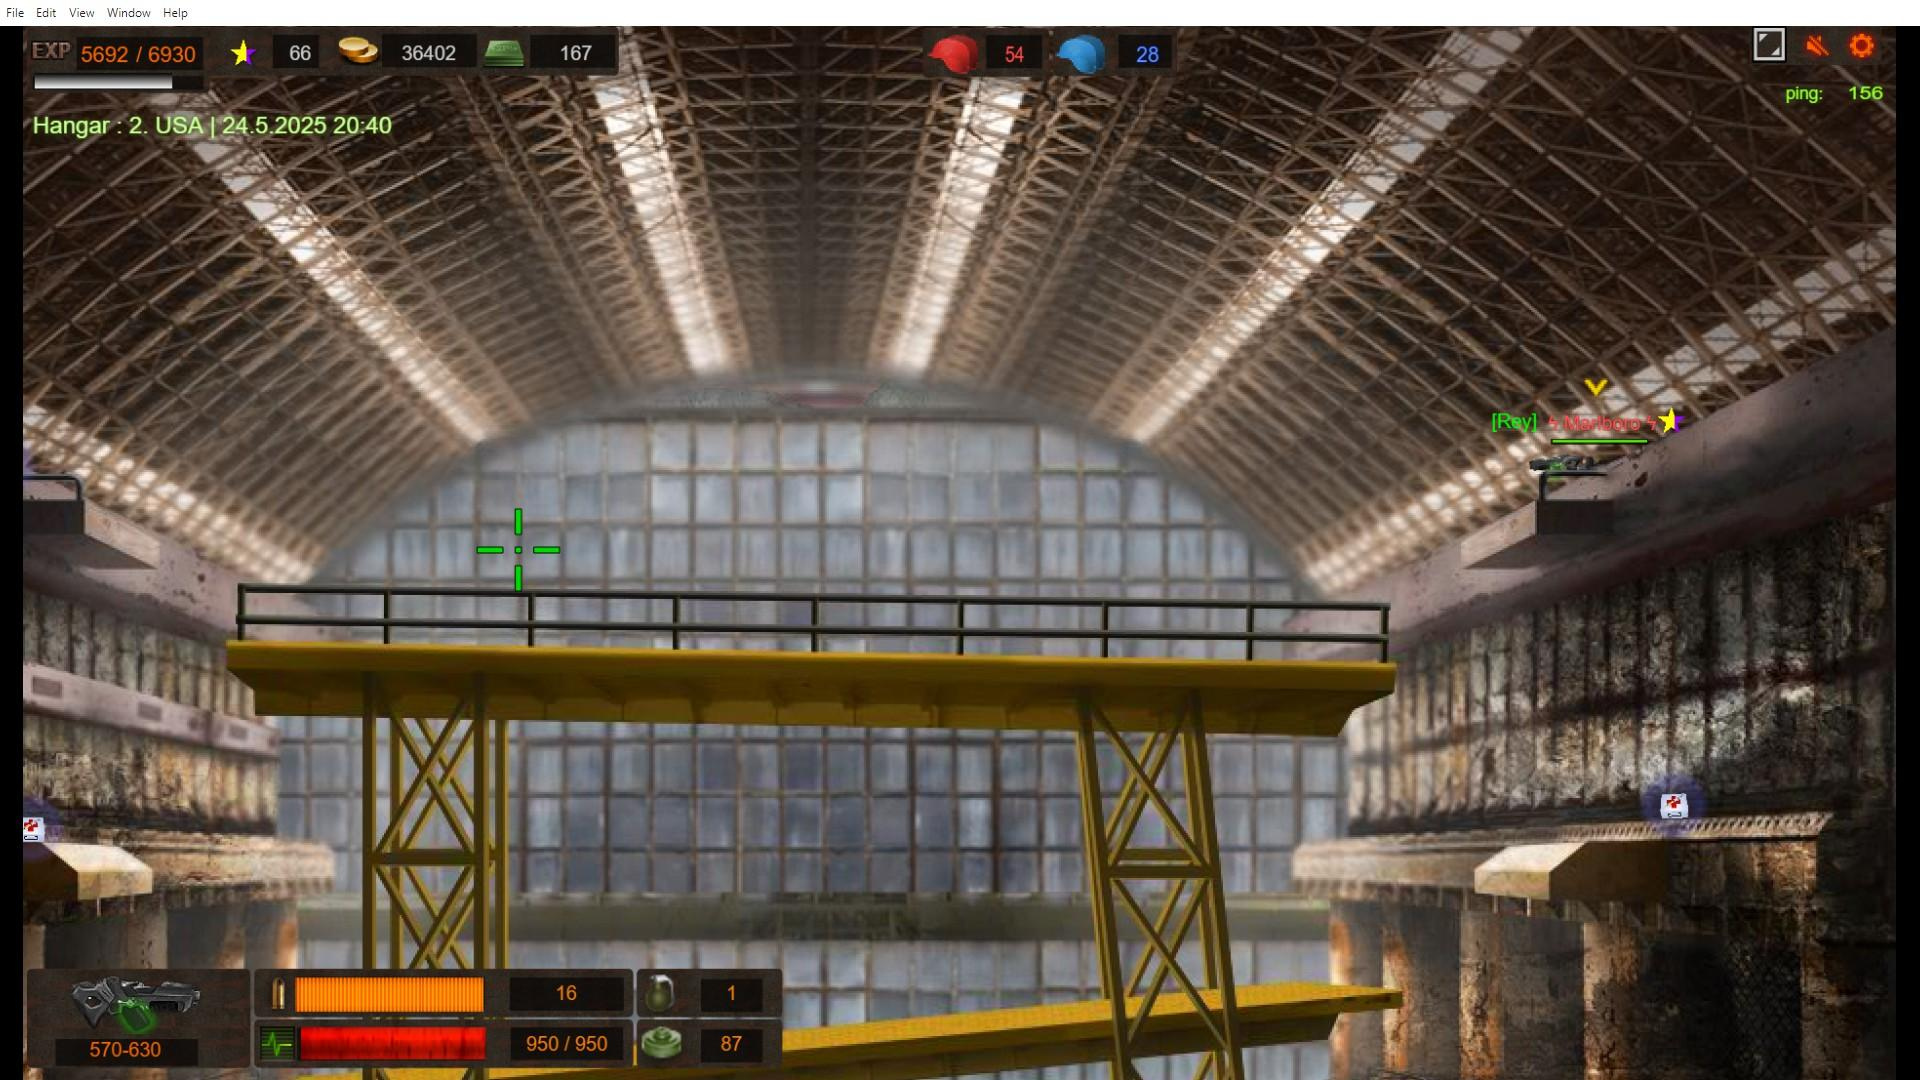enemy: (1568, 458, 1643, 484)
